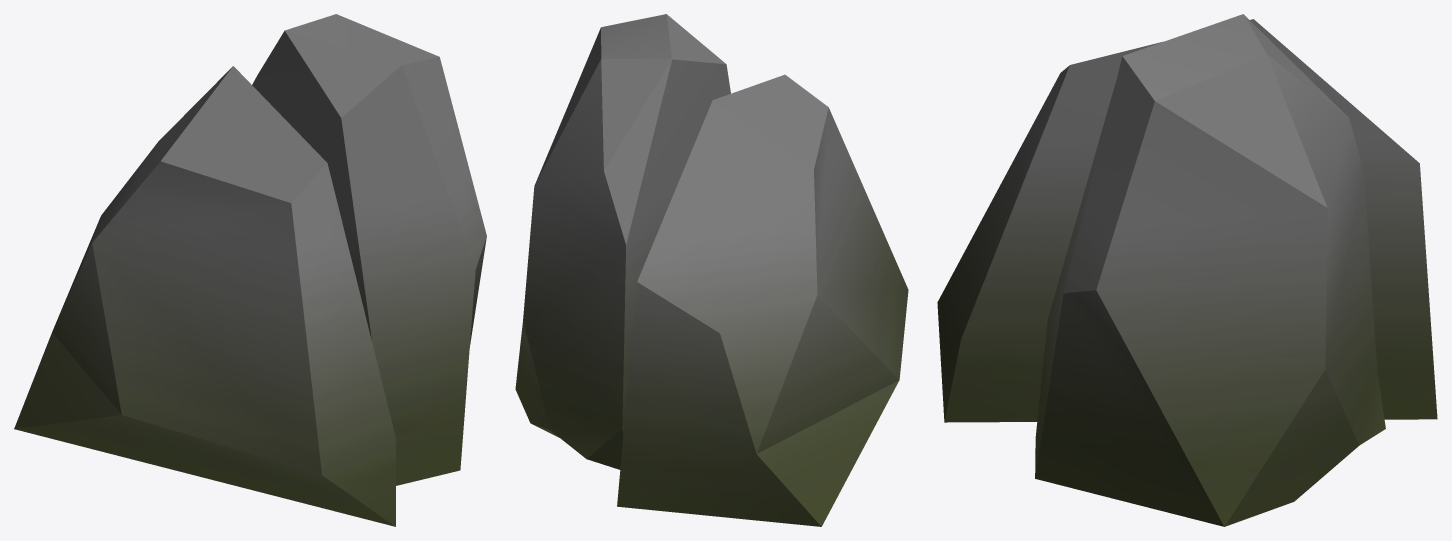
File: ea_environment_stone_moss_01b_pre__14__lev1.glb
The picture shows the model from 3 angles, left to right: view 1: azimuth 30°, elevation 25°; view 2: azimuth 150°, elevation 25°; view 3: azimuth 270°, elevation 25°; orthographic projection. The views are drawn at different scales.
Parts seen in each view (by area): view 1: ea_environment_stone_moss_01b_pre__14__lev1; view 2: ea_environment_stone_moss_01b_pre__14__lev1; view 3: ea_environment_stone_moss_01b_pre__14__lev1.
Part boxes in pixels (left/top/right/bottom): ea_environment_stone_moss_01b_pre__14__lev1: left=14, top=14, right=486, bottom=526; ea_environment_stone_moss_01b_pre__14__lev1: left=515, top=14, right=908, bottom=526; ea_environment_stone_moss_01b_pre__14__lev1: left=937, top=14, right=1437, bottom=526.
Size of the model in its own units: 1.34 by 1.3 by 1.4.
Materials: 1 (1 with a texture image).
